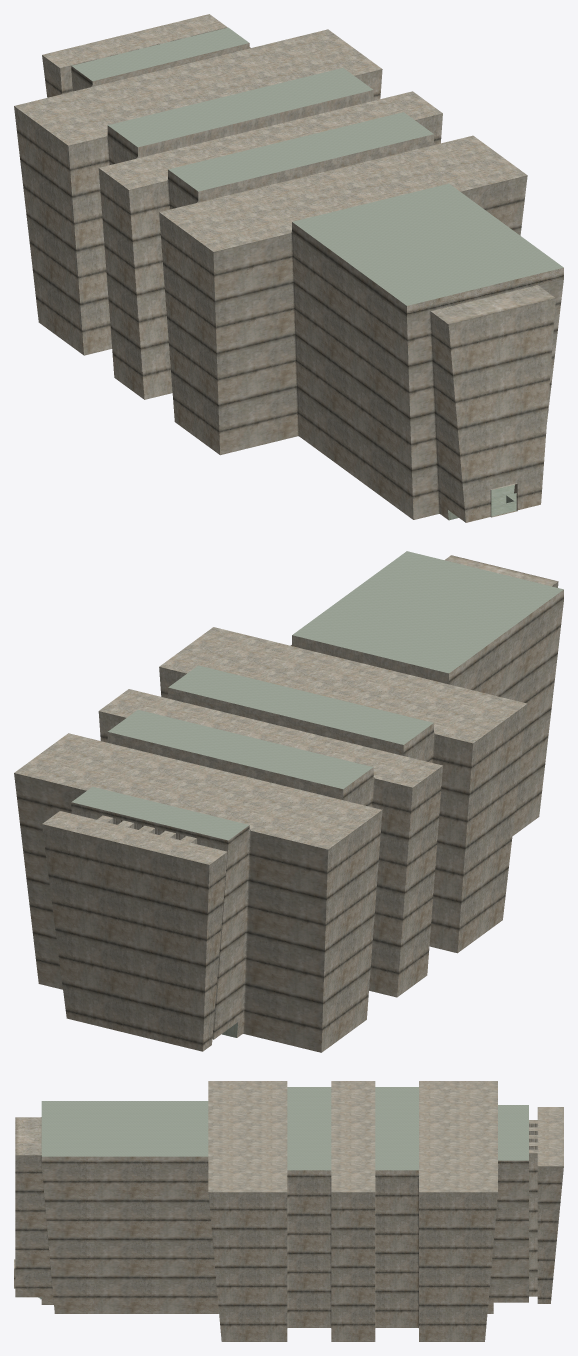
Rendered from thm_yavn_great_massassi_temple_r10_ceremonyhall_mesh_r10.fbx.
3 views of the same model, one above another, from view 1: azimuth 30°, elevation 25°; view 2: azimuth 150°, elevation 25°; view 3: azimuth 270°, elevation 25° (orthographic). The views are drawn at different scales.
Parts seen in each view (by area): view 1: mesh_node; view 2: mesh_node; view 3: mesh_node.
Boxes of the visible parts, bbox=[...] form: mesh_node: bbox=[14, 14, 563, 522]; mesh_node: bbox=[14, 551, 563, 1052]; mesh_node: bbox=[14, 1081, 563, 1341].
Size of the model in its own units: 60 by 41 by 125.
